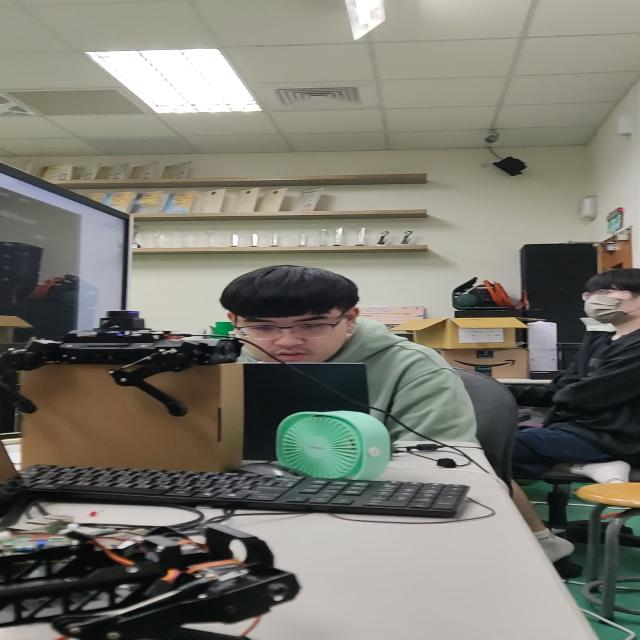person: (217, 252, 480, 447), (507, 260, 640, 485)
